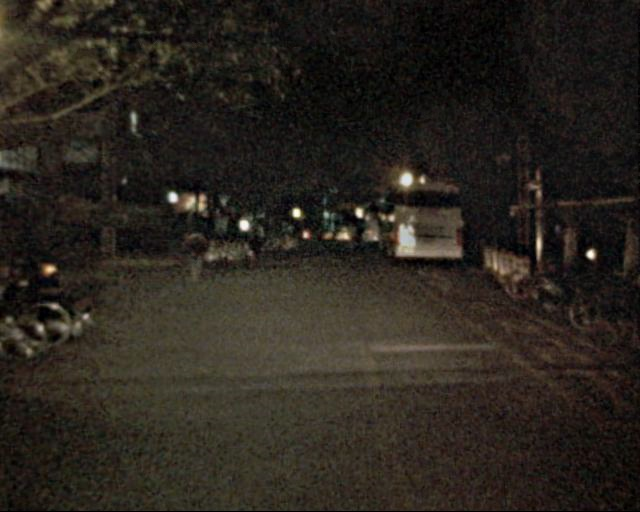cyclist: (344, 220, 363, 249)
person: (180, 218, 207, 284), (243, 217, 261, 260)
